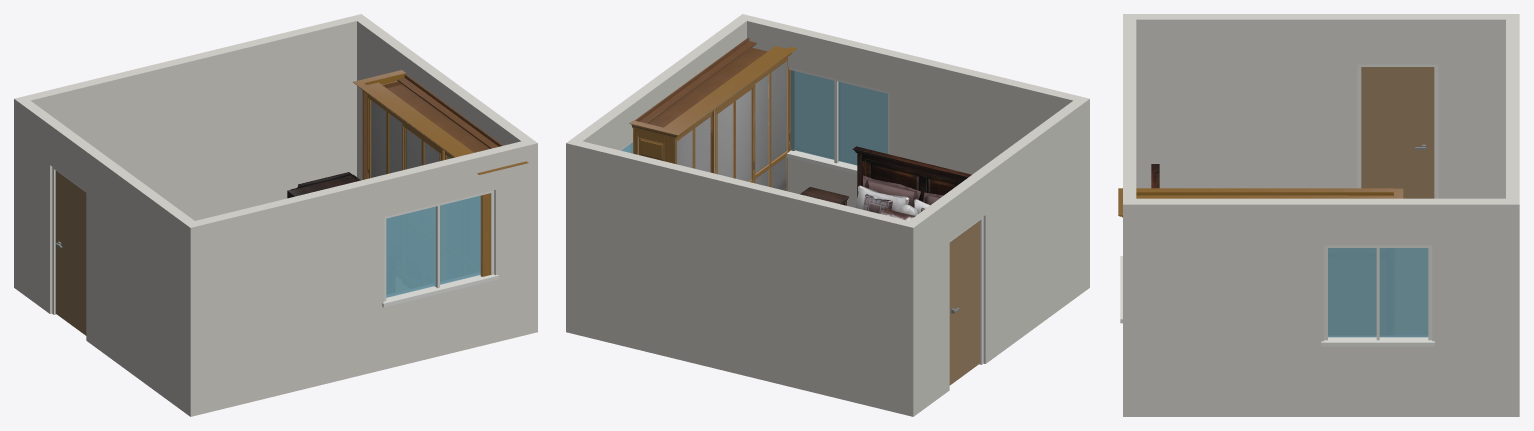
Rendered from atiss.glb.
3 renders of one model, left to right at view 1: azimuth 30°, elevation 25°; view 2: azimuth 150°, elevation 25°; view 3: azimuth 270°, elevation 25°, orthographic. The views are drawn at different scales.
Visible parts, largest first — view 1: wall|scenesmith_064__R00|0, wall|scenesmith_064__R00|1, wall|scenesmith_064__R00|2, raw_model, wall|scenesmith_064__R00|0 Window 0 | glazing, wall|scenesmith_064__R00|3, wall|scenesmith_064__R00|2 Door 0 | wood leaf, wall|scenesmith_064__R00|0 Window 0 | jamb, raw_model.004, wall|scenesmith_064__R00|2 Door 0 | jamb; view 2: wall|scenesmith_064__R00|1, wall|scenesmith_064__R00|2, wall|scenesmith_064__R00|0, raw_model, wall|scenesmith_064__R00|0 Window 0 | glazing, raw_model.001, wall|scenesmith_064__R00|3, wall|scenesmith_064__R00|2 Door 0 | wood leaf, wall|scenesmith_064__R00|0 Window 0 | jamb, wall|scenesmith_064__R00|2 Door 0 | jamb; view 3: wall|scenesmith_064__R00|3, wall|scenesmith_064__R00|2, wall|scenesmith_064__R00|2 Door 0 | wood leaf, wall|scenesmith_064__R00|3 Window 0 | glazing, wall|scenesmith_064__R00|1, raw_model, wall|scenesmith_064__R00|3 Window 0 | jamb, wall|scenesmith_064__R00|0, wall|scenesmith_064__R00|2 Door 0 | jamb.
Part boxes in pixels (<box>): wall|scenesmith_064__R00|0: <box>195,141,537,414</box>; wall|scenesmith_064__R00|1: <box>14,14,366,291</box>; wall|scenesmith_064__R00|2: <box>14,96,200,416</box>; raw_model: <box>353,70,528,276</box>; wall|scenesmith_064__R00|0 Window 0 | glazing: <box>386,195,480,297</box>; wall|scenesmith_064__R00|3: <box>351,14,536,180</box>; wall|scenesmith_064__R00|2 Door 0 | wood leaf: <box>55,170,86,335</box>; wall|scenesmith_064__R00|0 Window 0 | jamb: <box>382,190,498,307</box>; raw_model.004: <box>287,172,360,198</box>; wall|scenesmith_064__R00|2 Door 0 | jamb: <box>52,167,86,314</box>; wall|scenesmith_064__R00|1: <box>566,139,919,416</box>; wall|scenesmith_064__R00|2: <box>903,96,1089,416</box>; wall|scenesmith_064__R00|0: <box>737,14,1078,207</box>; raw_model: <box>629,38,797,191</box>; wall|scenesmith_064__R00|0 Window 0 | glazing: <box>790,70,887,165</box>; raw_model.001: <box>852,146,971,220</box>; wall|scenesmith_064__R00|3: <box>572,15,751,150</box>; wall|scenesmith_064__R00|2 Door 0 | wood leaf: <box>949,220,980,385</box>; wall|scenesmith_064__R00|0 Window 0 | jamb: <box>786,67,889,174</box>; wall|scenesmith_064__R00|2 Door 0 | jamb: <box>949,217,983,364</box>; wall|scenesmith_064__R00|3: <box>1123,198,1519,416</box>; wall|scenesmith_064__R00|2: <box>1123,14,1519,198</box>; wall|scenesmith_064__R00|2 Door 0 | wood leaf: <box>1361,67,1434,198</box>; wall|scenesmith_064__R00|3 Window 0 | glazing: <box>1328,248,1428,337</box>; wall|scenesmith_064__R00|1: <box>1506,19,1519,416</box>; raw_model: <box>1118,188,1403,217</box>; wall|scenesmith_064__R00|3 Window 0 | jamb: <box>1321,245,1434,346</box>; wall|scenesmith_064__R00|0: <box>1123,19,1136,204</box>; wall|scenesmith_064__R00|2 Door 0 | jamb: <box>1357,64,1438,198</box>.
Size of the model in its own units: 5.03 by 2.61 by 4.45.
10 materials, 4 textured.
